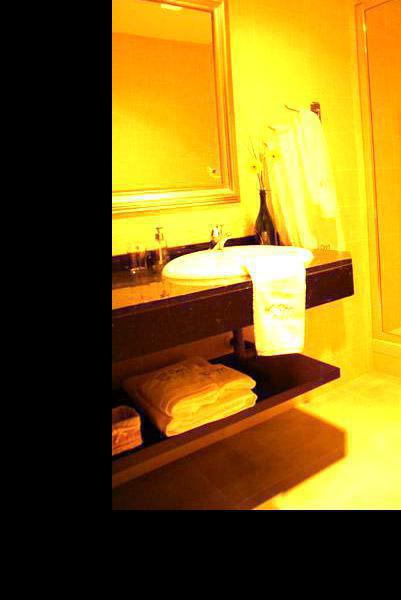Ducha: (361, 0, 401, 394)
Lavamanos: (161, 213, 329, 296)
